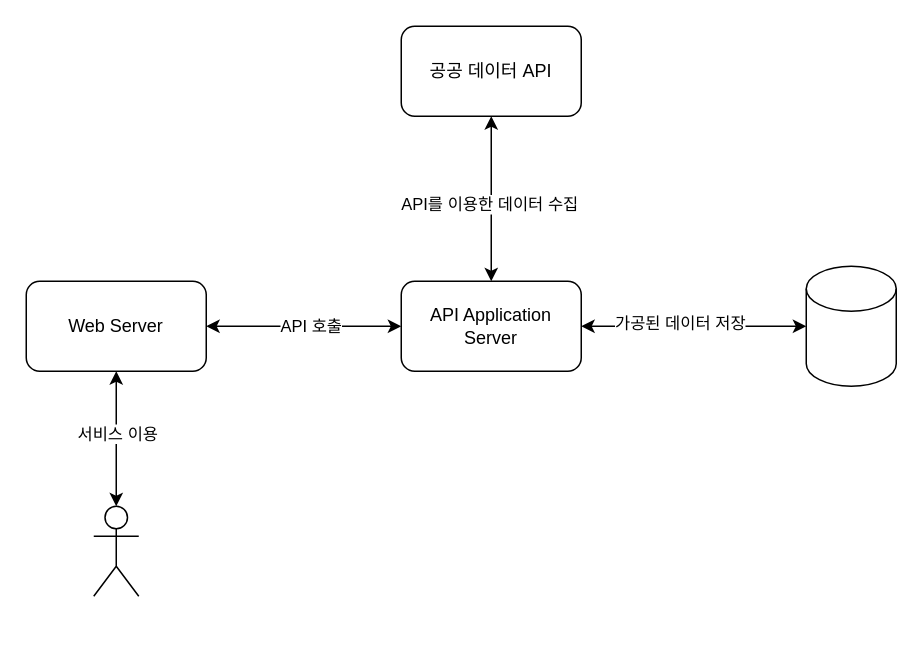
The diagram is 923 pixels wide and 654 high, and some of its shapes have lost their labels. The shapes that lost their labels are listed below. From the top down, each one's box as (x1, y1, x2, y2) in pixels, then its label:
(805, 265, 896, 386): Database
(92, 505, 139, 596): Client
